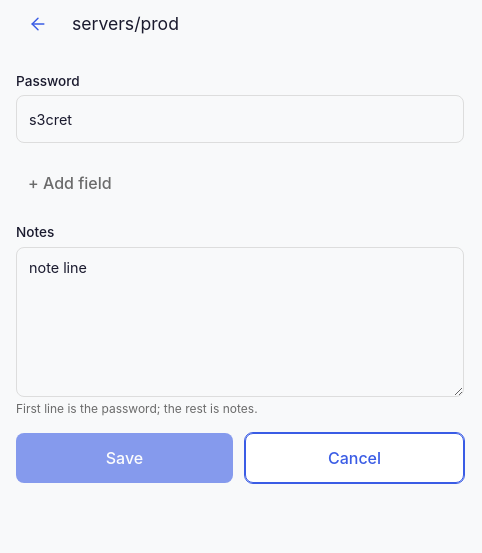
Scenario: EntryEditPage › renders a red error for a generic save failure (baseline)
This screenshot has width=482, height=553.
Replace the text in the field with id "e-password" with "newpass" at (240, 119), box [16,95,464,143]
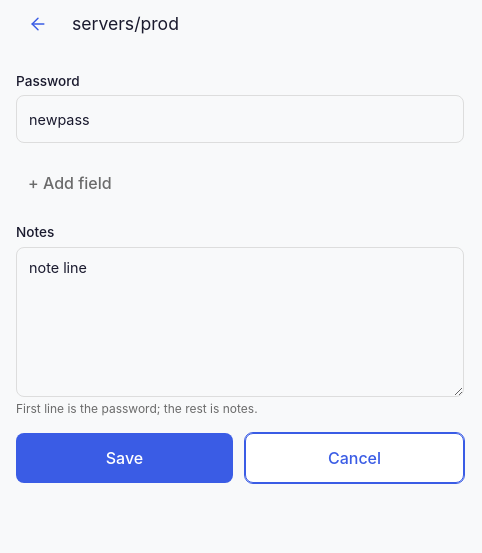
Submit the form
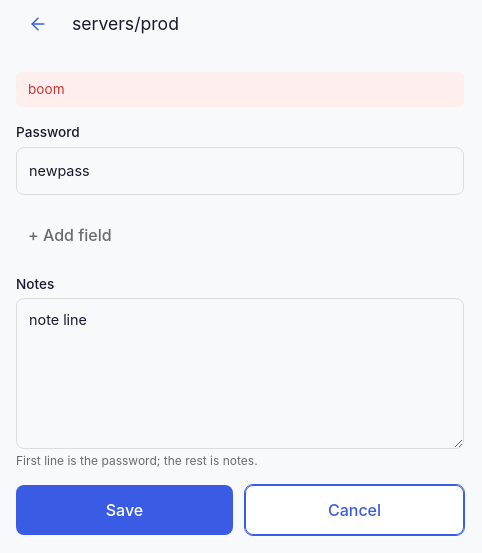
Check: the message "boom" is shown, box [16,72,464,107]
